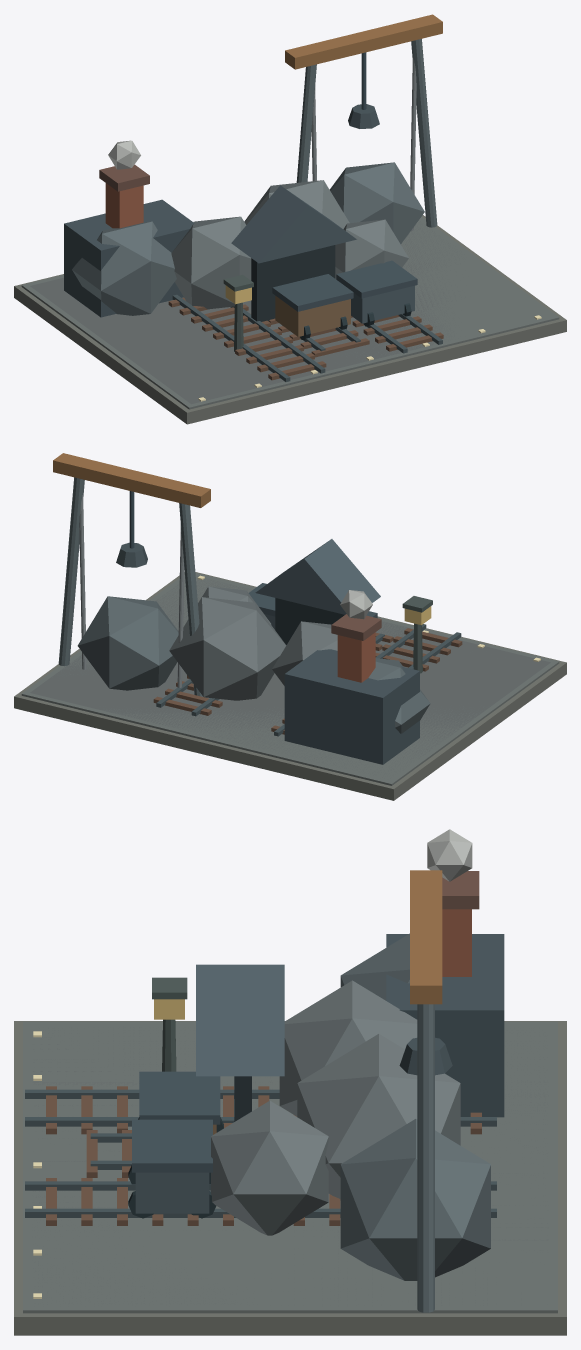
File: mine-lv2.obj
3 renders of one model, top to bottom at view 1: azimuth 30°, elevation 25°; view 2: azimuth 150°, elevation 25°; view 3: azimuth 270°, elevation 25°, orthographic. The views are drawn at different scales.
Parts seen in each view (by area): view 1: mine_13, mine_1, mine_14, mine_3, mine_0, mine_5, mine_7, mine_20, mine_9, mine_15, mine_17, mine_4 (+8 smaller); view 2: mine_13, mine_1, mine_20, mine_3, mine_0, mine_14, mine_5, mine_15, mine_17, mine_7, mine_21, mine_4 (+7 smaller); view 3: mine_1, mine_3, mine_14, mine_0, mine_5, mine_20, mine_9, mine_6, mine_15, mine_7, mine_17, mine_21 (+7 smaller).
Part boxes in pixels (bbox=[...]): mine_13: bbox=[30, 220, 465, 404]; mine_1: bbox=[21, 216, 559, 409]; mine_14: bbox=[72, 162, 424, 315]; mine_3: bbox=[171, 180, 408, 309]; mine_0: bbox=[14, 215, 566, 424]; mine_5: bbox=[231, 185, 414, 323]; mine_7: bbox=[168, 297, 443, 380]; mine_20: bbox=[64, 199, 194, 317]; mine_9: bbox=[272, 260, 417, 311]; mine_15: bbox=[296, 39, 437, 227]; mine_17: bbox=[285, 14, 442, 69]; mine_4: bbox=[251, 245, 335, 321]; mine_13: bbox=[30, 576, 550, 778]; mine_1: bbox=[21, 572, 559, 785]; mine_20: bbox=[284, 649, 419, 764]; mine_3: bbox=[169, 586, 337, 700]; mine_0: bbox=[14, 572, 566, 800]; mine_14: bbox=[77, 596, 430, 733]; mine_5: bbox=[255, 539, 380, 629]; mine_15: bbox=[58, 477, 202, 696]; mine_17: bbox=[53, 453, 210, 507]; mine_7: bbox=[153, 628, 462, 734]; mine_21: bbox=[337, 632, 375, 682]; mine_4: bbox=[275, 598, 344, 644]; mine_1: bbox=[23, 1021, 557, 1313]; mine_3: bbox=[211, 980, 460, 1235]; mine_14: bbox=[340, 933, 490, 1280]; mine_0: bbox=[14, 1021, 566, 1335]; mine_5: bbox=[135, 964, 284, 1213]; mine_20: bbox=[386, 934, 504, 1117]; mine_9: bbox=[132, 1071, 220, 1172]; mine_6: bbox=[25, 1089, 496, 1217]; mine_15: bbox=[417, 1004, 434, 1312]; mine_7: bbox=[46, 1086, 481, 1225]; mine_17: bbox=[410, 870, 442, 1004]; mine_21: bbox=[442, 909, 471, 976].
Bounding box in the file's own units: 4.75 × 2.62 × 3.75.
